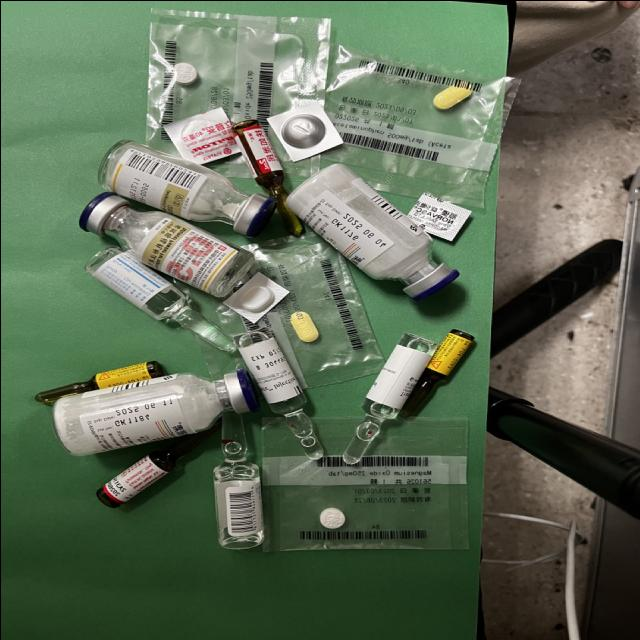Ampoules: (86, 246, 235, 352), (342, 332, 437, 464), (233, 320, 323, 459), (96, 429, 211, 506), (233, 118, 301, 235), (211, 411, 263, 548), (401, 328, 473, 415), (35, 360, 164, 404)
Vials: (285, 163, 458, 298), (79, 192, 253, 296), (52, 368, 258, 454), (98, 140, 275, 236)
